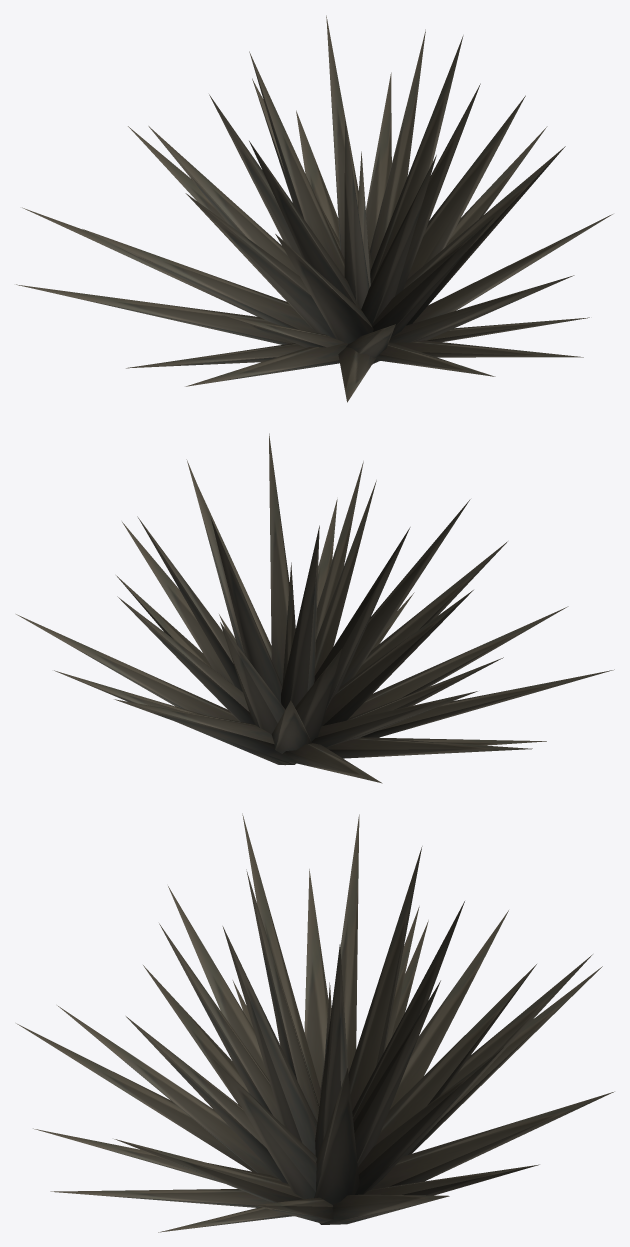
Rendered from DE_Cactus_42.fbx.
3 views of the same model, one above another, from view 1: azimuth 30°, elevation 25°; view 2: azimuth 150°, elevation 25°; view 3: azimuth 270°, elevation 25° (orthographic). The views are drawn at different scales.
Visible parts, largest first — view 1: DE_Cactus_42; view 2: DE_Cactus_42; view 3: DE_Cactus_42.
Part boxes in pixels (left/top/right/bottom): DE_Cactus_42: left=16, top=15, right=612, bottom=402; DE_Cactus_42: left=16, top=433, right=614, bottom=783; DE_Cactus_42: left=16, top=813, right=614, bottom=1232.
Bounding box in the file's own units: 4.02 × 2.1 × 3.43.
